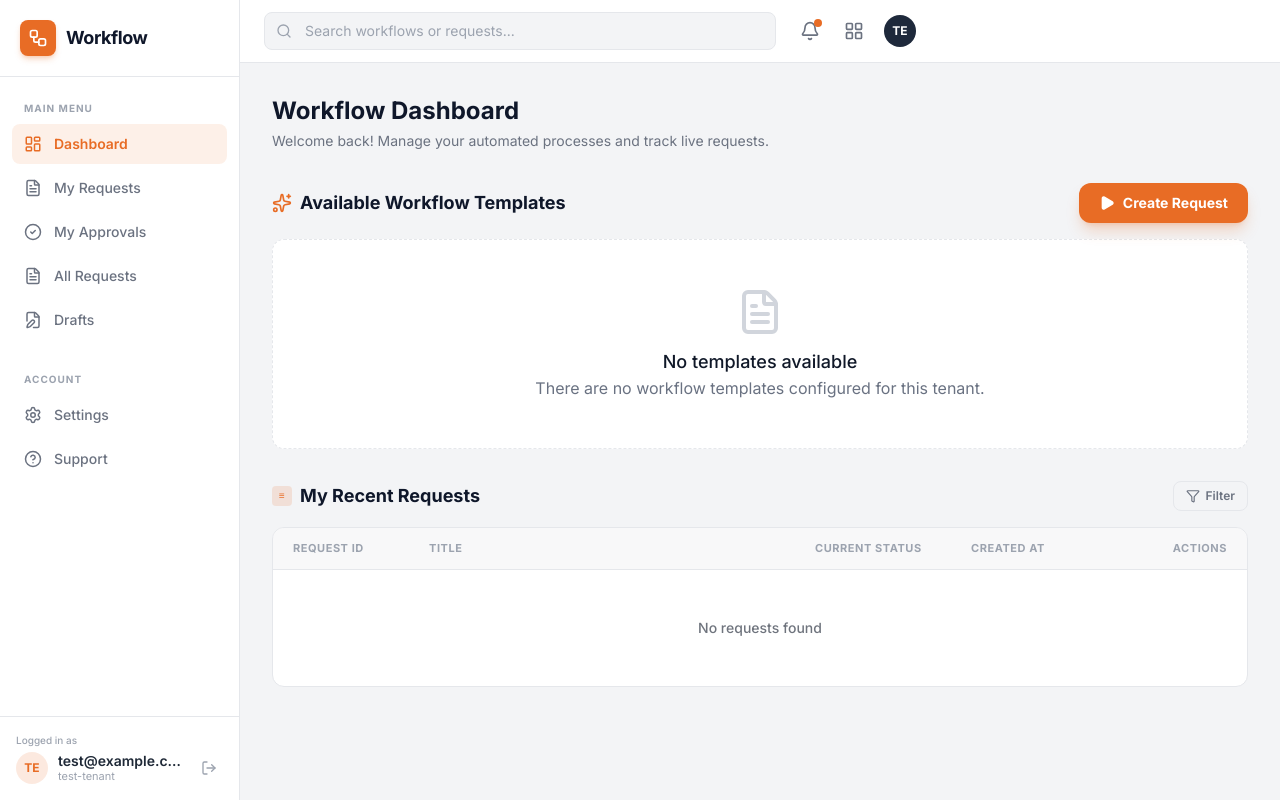
Test: Routing Tests › should show placeholders for missing pages like Drafts
Step 1. Click the link "Drafts" → x=59, y=320, box x1=24 y1=311 x2=94 y2=329
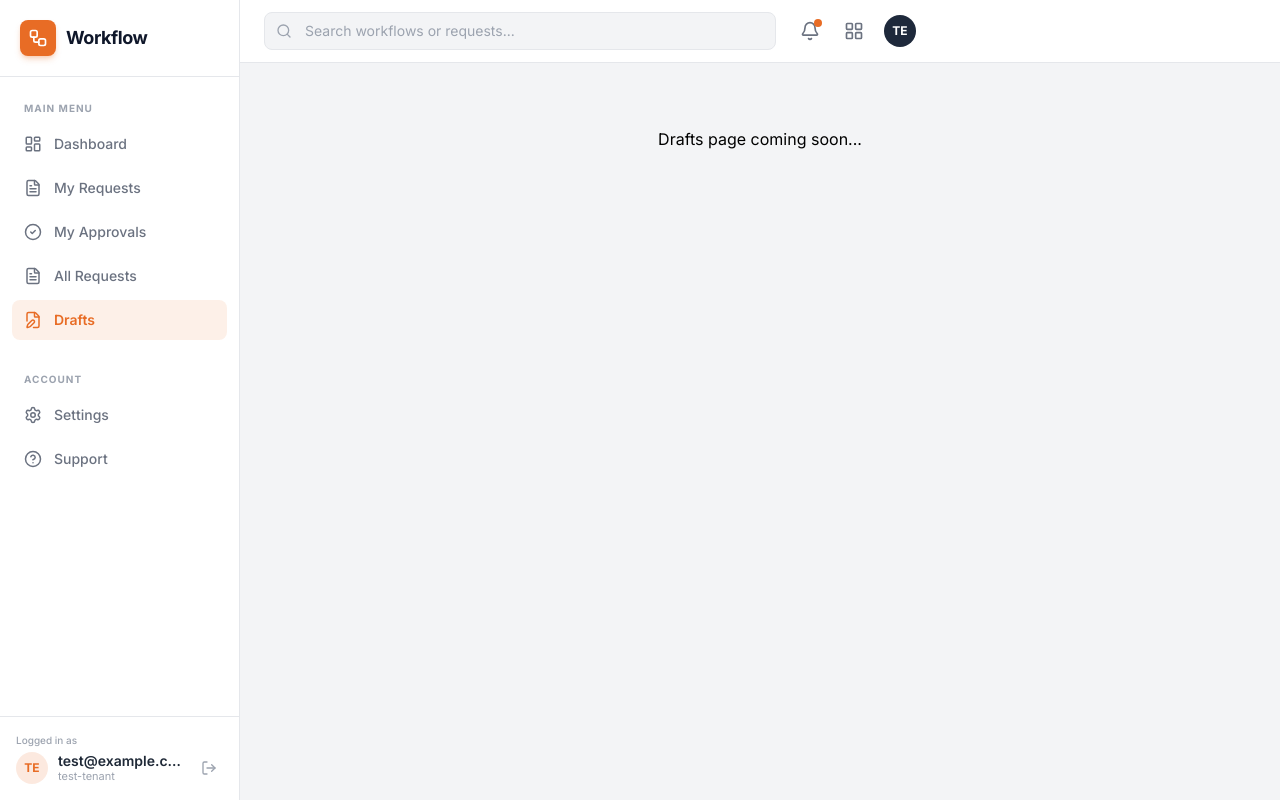
Check: the text "Drafts page coming soon..." is shown, box x1=658 y1=129 x2=862 y2=149
